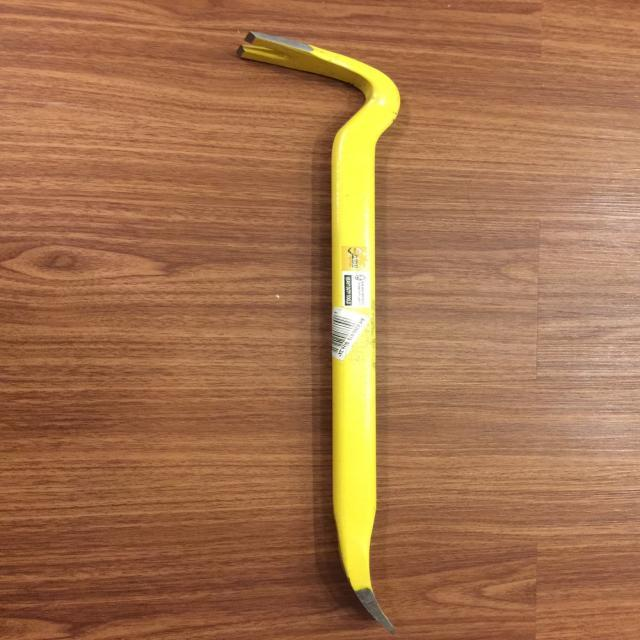Linggis: (218, 22, 435, 640)
